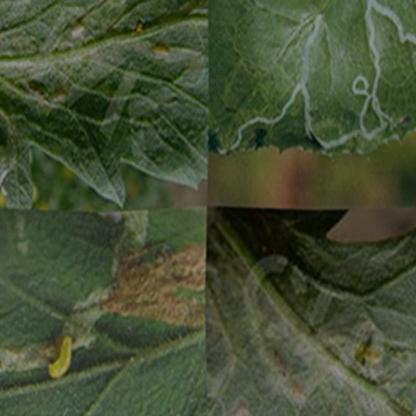whorl-maggot: (44, 332, 81, 392), (150, 38, 172, 64)
